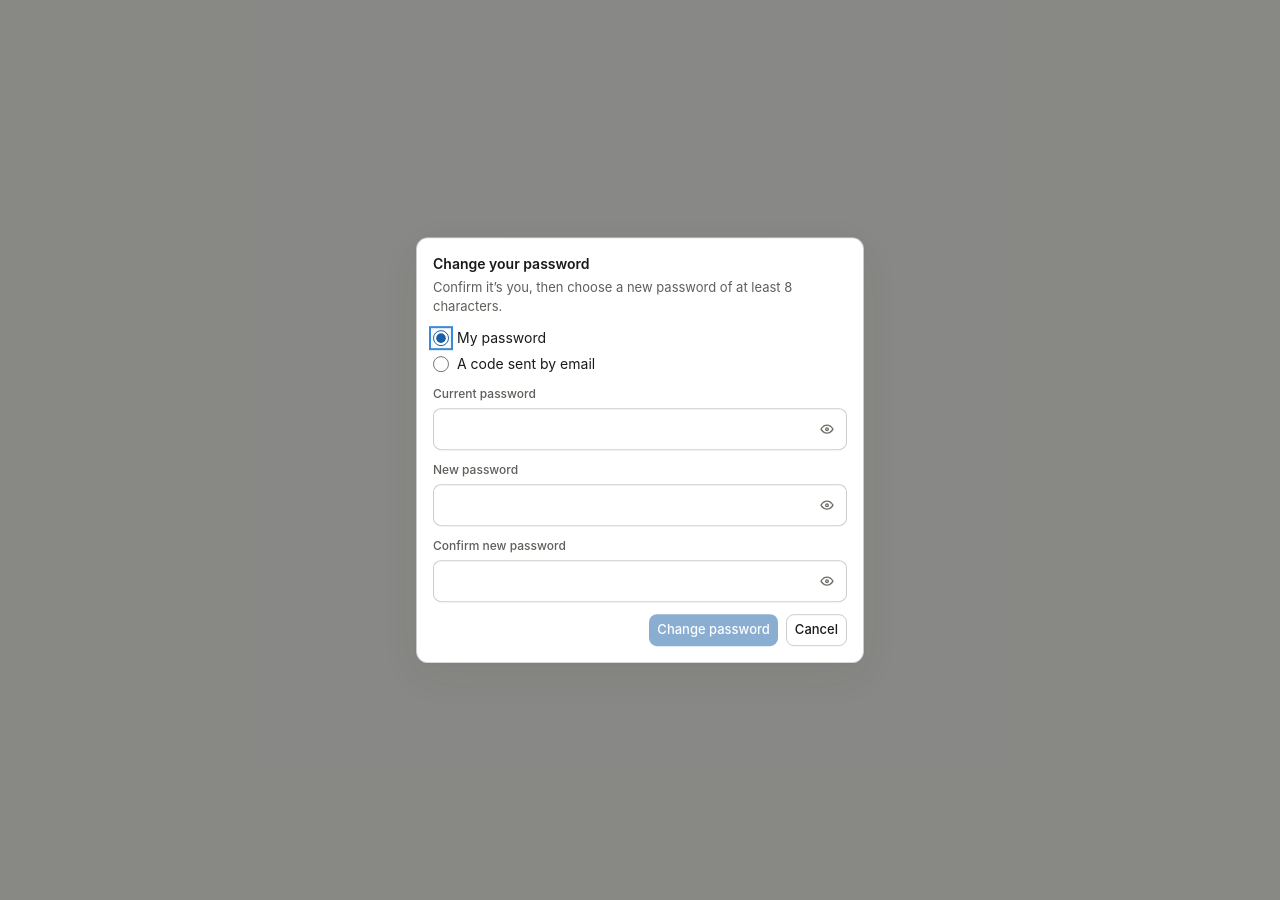
it: ChangePasswordDialog › shows the mismatch hint, and does not submit, when confirm differs
The image size is (1280, 900).
Step 1. Type "old-password" into the password field labelled "Current password" → x=640, y=429, box [433, 408, 847, 450]
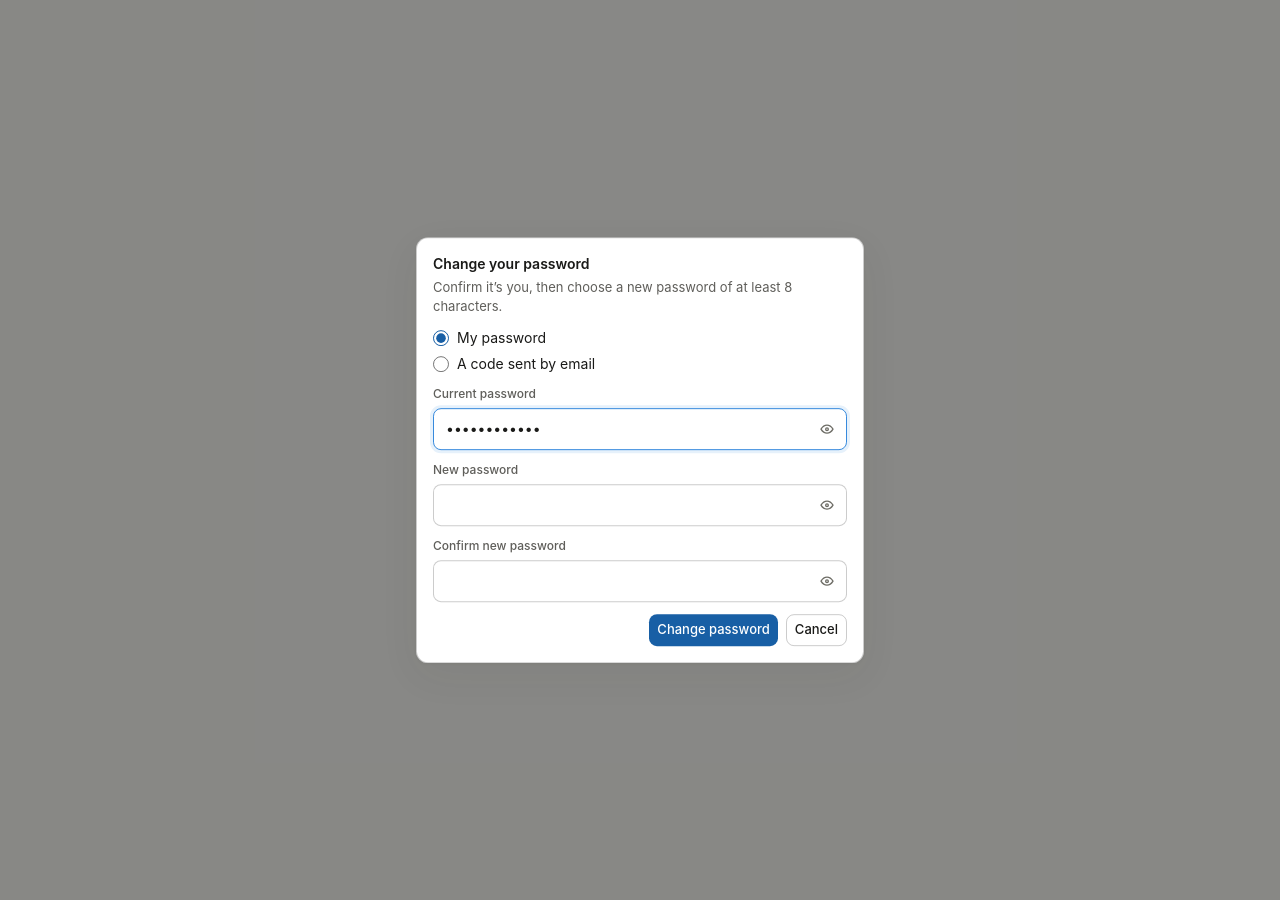
Step 2. Type "new-password-1" into the password field labelled "New password" → x=640, y=505, box [433, 484, 847, 526]
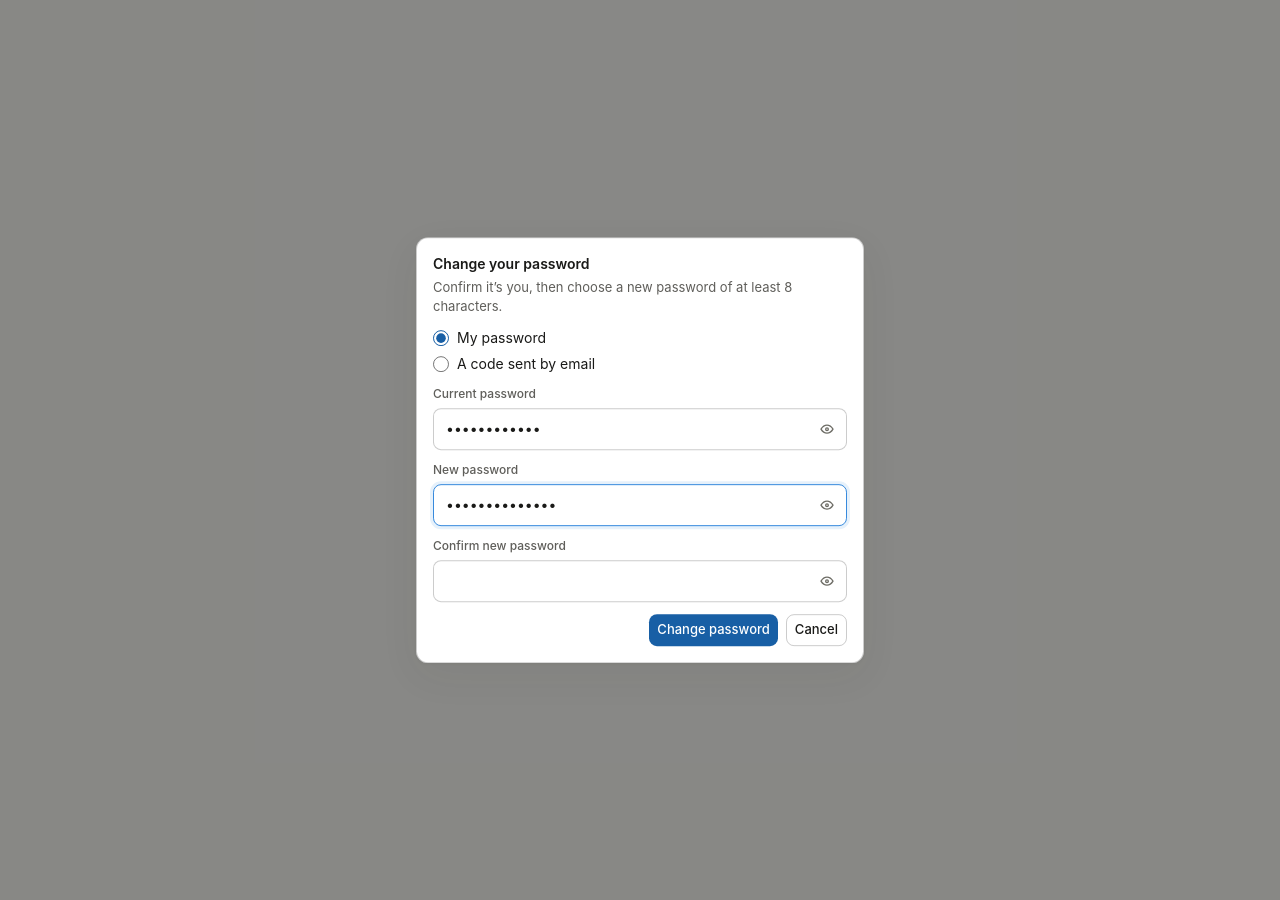
Step 3. Type "new-password-2" into the password field labelled "Confirm new password" → x=640, y=581, box [433, 560, 847, 602]
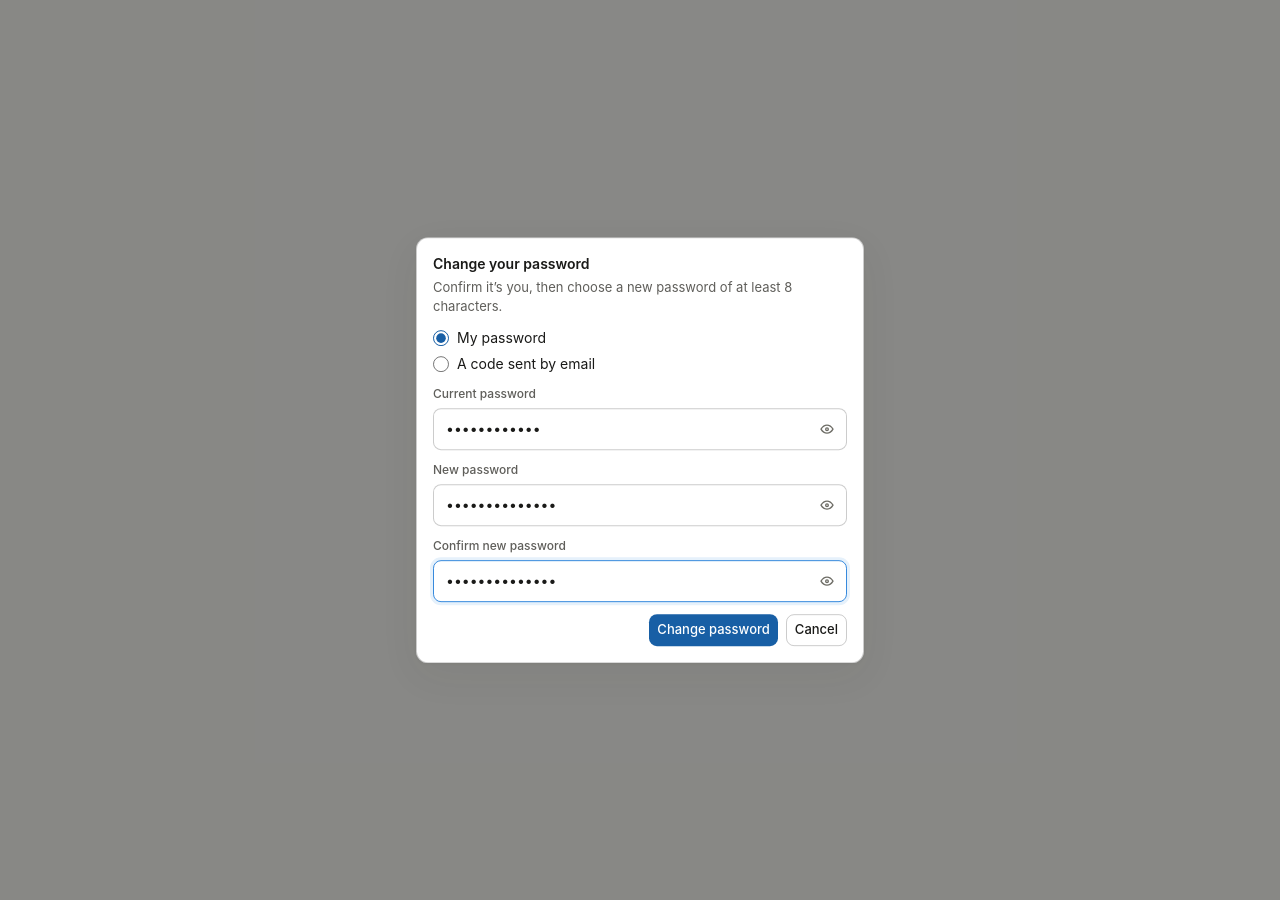
Step 4. Click the button "Change password" → x=714, y=630, box [649, 614, 778, 646]
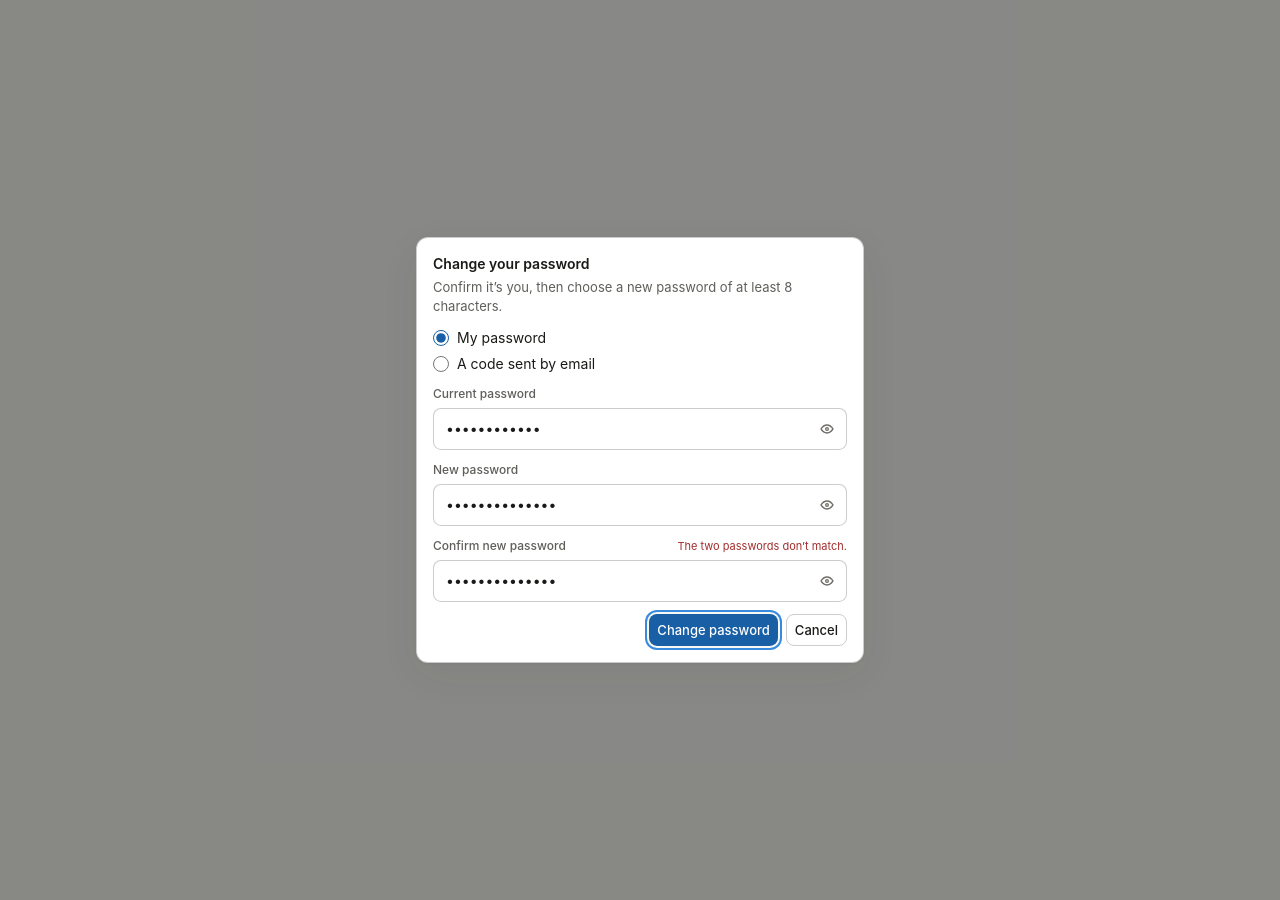
Result: the text "The two passwords don’t match." is shown at [677, 539, 847, 554]
